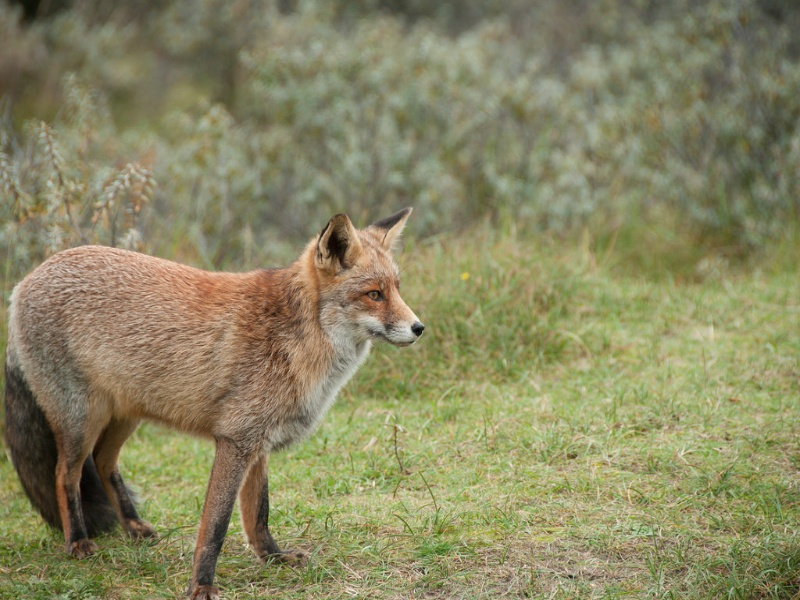fox: (4, 201, 426, 600)
